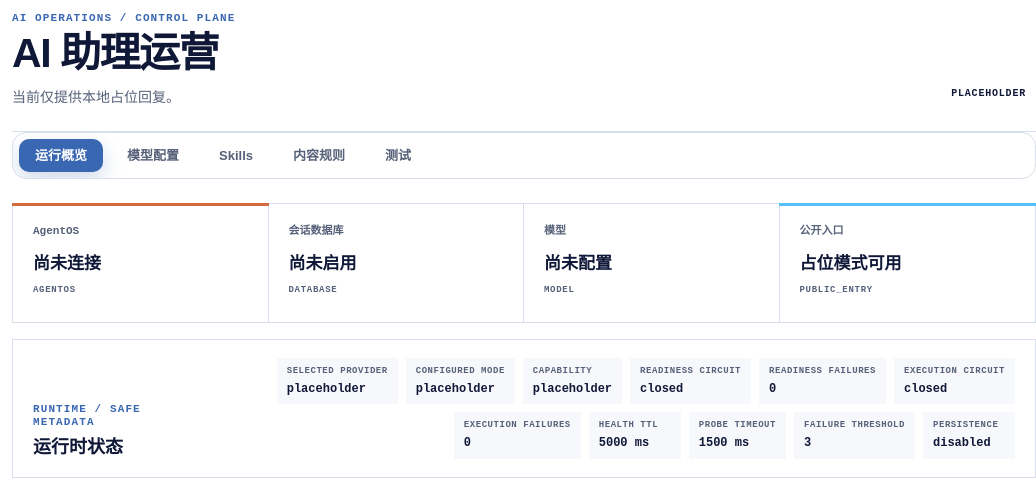
it: AdminAssistantPage › does not request the Skill Registry when the actor lacks Skill read permission
Click the tab "Skills" at (236, 156), box [203,139,269,172]
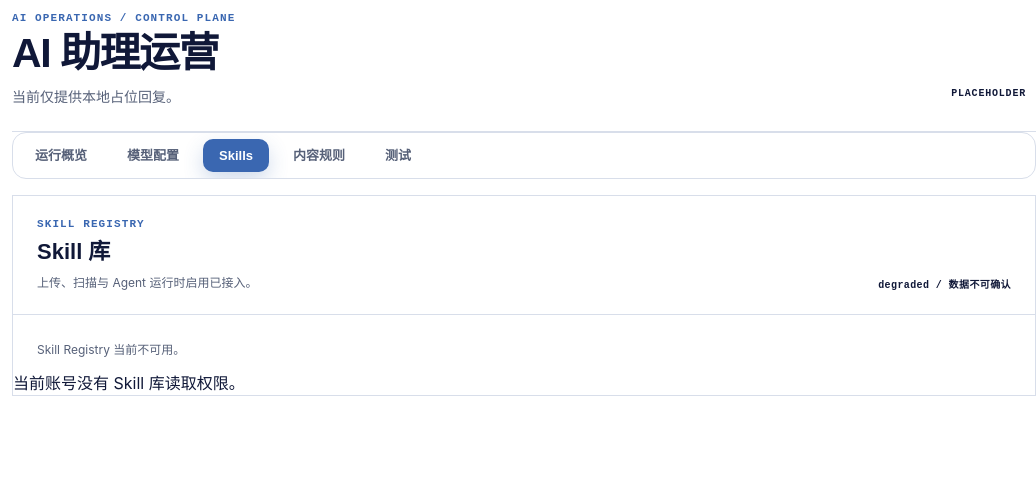
Now the text "degraded / 数据不可确认" is shown, box [878,280,1011,292]
Now the text "当前账号没有 Skill 库读取权限。" is shown, box [13,373,245,393]
